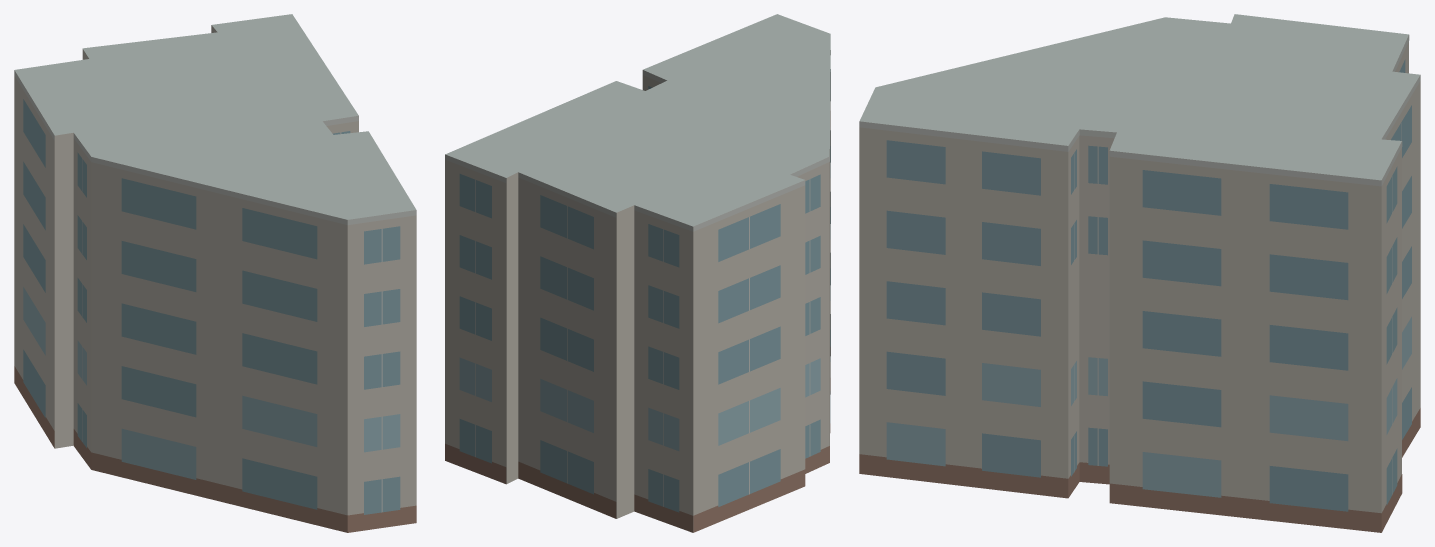
The model's file is survey-upis-32731712.glb.
3 views of the same model, side by side, from view 1: azimuth 30°, elevation 25°; view 2: azimuth 150°, elevation 25°; view 3: azimuth 270°, elevation 25° (orthographic). The views are drawn at different scales.
Visible parts, largest first — view 1: survey-upis-32731712.tmp; view 2: survey-upis-32731712.tmp; view 3: survey-upis-32731712.tmp.
Part boxes in pixels (x1,y1,x2,y2): survey-upis-32731712.tmp: (14,14,416,532); survey-upis-32731712.tmp: (445,14,830,532); survey-upis-32731712.tmp: (859,14,1420,532).
Size of the model in its own units: 14.49 by 14.3 by 20.64.
